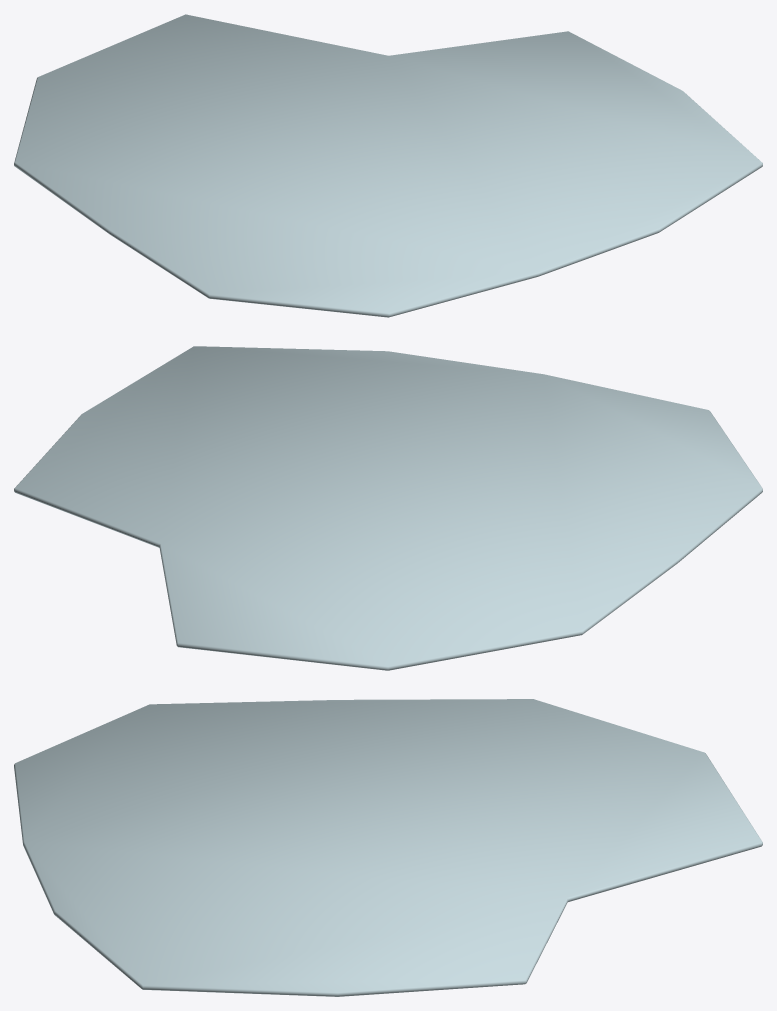
File: spill_puddle.glb
The picture shows the model from 3 angles, top to bottom: view 1: azimuth 30°, elevation 25°; view 2: azimuth 150°, elevation 25°; view 3: azimuth 270°, elevation 25°; orthographic projection. The views are drawn at different scales.
Visible parts, largest first — view 1: spill_puddle; view 2: spill_puddle; view 3: spill_puddle.
Boxes of the visible parts, x1=… form: spill_puddle: x1=14, y1=14, x2=762, y2=317; spill_puddle: x1=14, y1=346, x2=762, y2=670; spill_puddle: x1=14, y1=699, x2=762, y2=996.
Bounding box in the file's own units: 0.389 × 0.003 × 0.4185.
